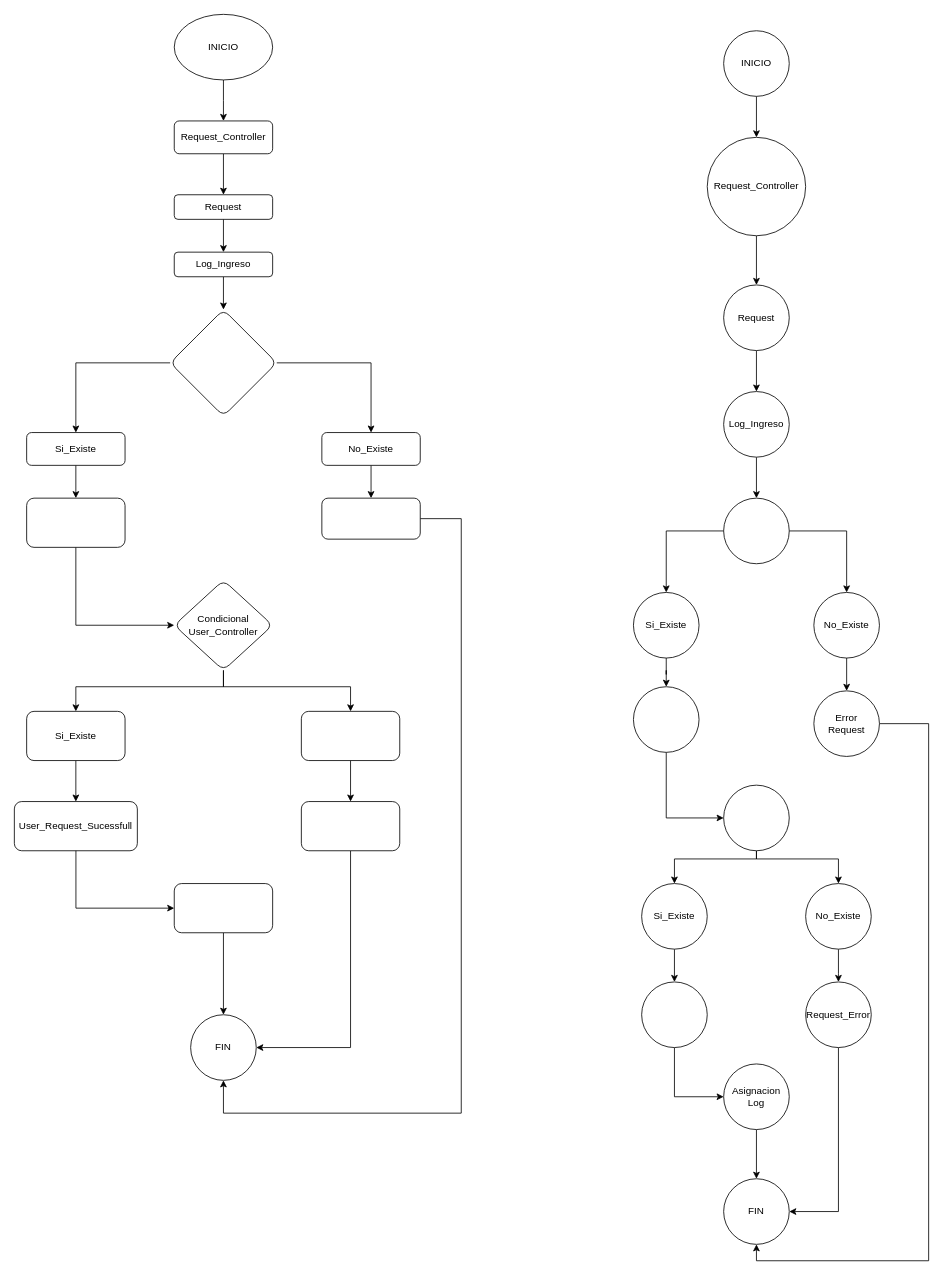
Image size: 950x1282. Some labels were removed from this diagram. The shapes that lost their labels are listed below. From the top down, each one's centre as x and y in pixels, then its label:
At (223,362): "Condicional Password_Null".
At (75,522): "Conceder_Servicio".
At (370,518): "Error_Request".
At (756,530): "Condiciona Userl".
At (350,736): "No_Exista".
At (666,719): "Concerder Servicio".
At (350,826): "User_Request_Error".
At (756,817): "Condicional User Controller".
At (223,908): "Asignacion_Log".
At (674,1014): "Request Sucesfull".
